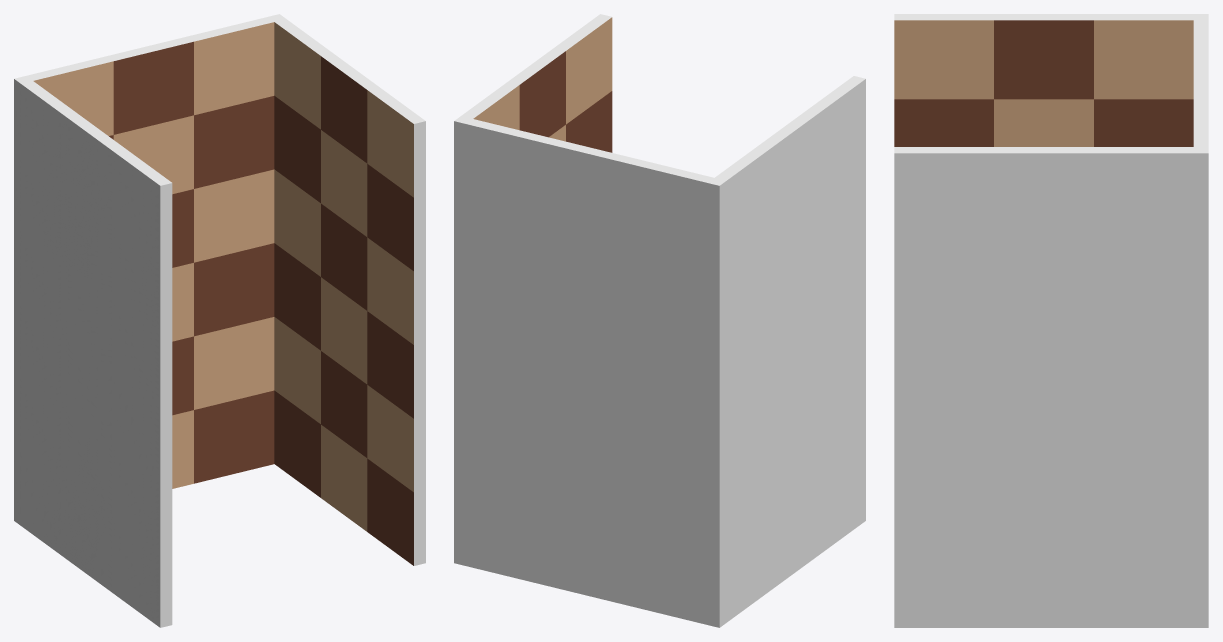
File: Prop_WallCShape_05.fbx
The picture shows the model from 3 angles, left to right: view 1: azimuth 30°, elevation 25°; view 2: azimuth 150°, elevation 25°; view 3: azimuth 270°, elevation 25°; orthographic projection. The views are drawn at different scales.
Visible parts, largest first — view 1: Prop_WallCShape_05; view 2: Prop_WallCShape_05; view 3: Prop_WallCShape_05.
Boxes of the visible parts, bbox=[...] form: Prop_WallCShape_05: bbox=[14, 14, 425, 627]; Prop_WallCShape_05: bbox=[454, 14, 865, 627]; Prop_WallCShape_05: bbox=[894, 14, 1208, 627].
Bounding box in the file's own units: 220 × 350 × 210.
